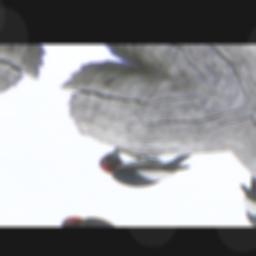Woodpecker: (88, 127, 201, 203)
